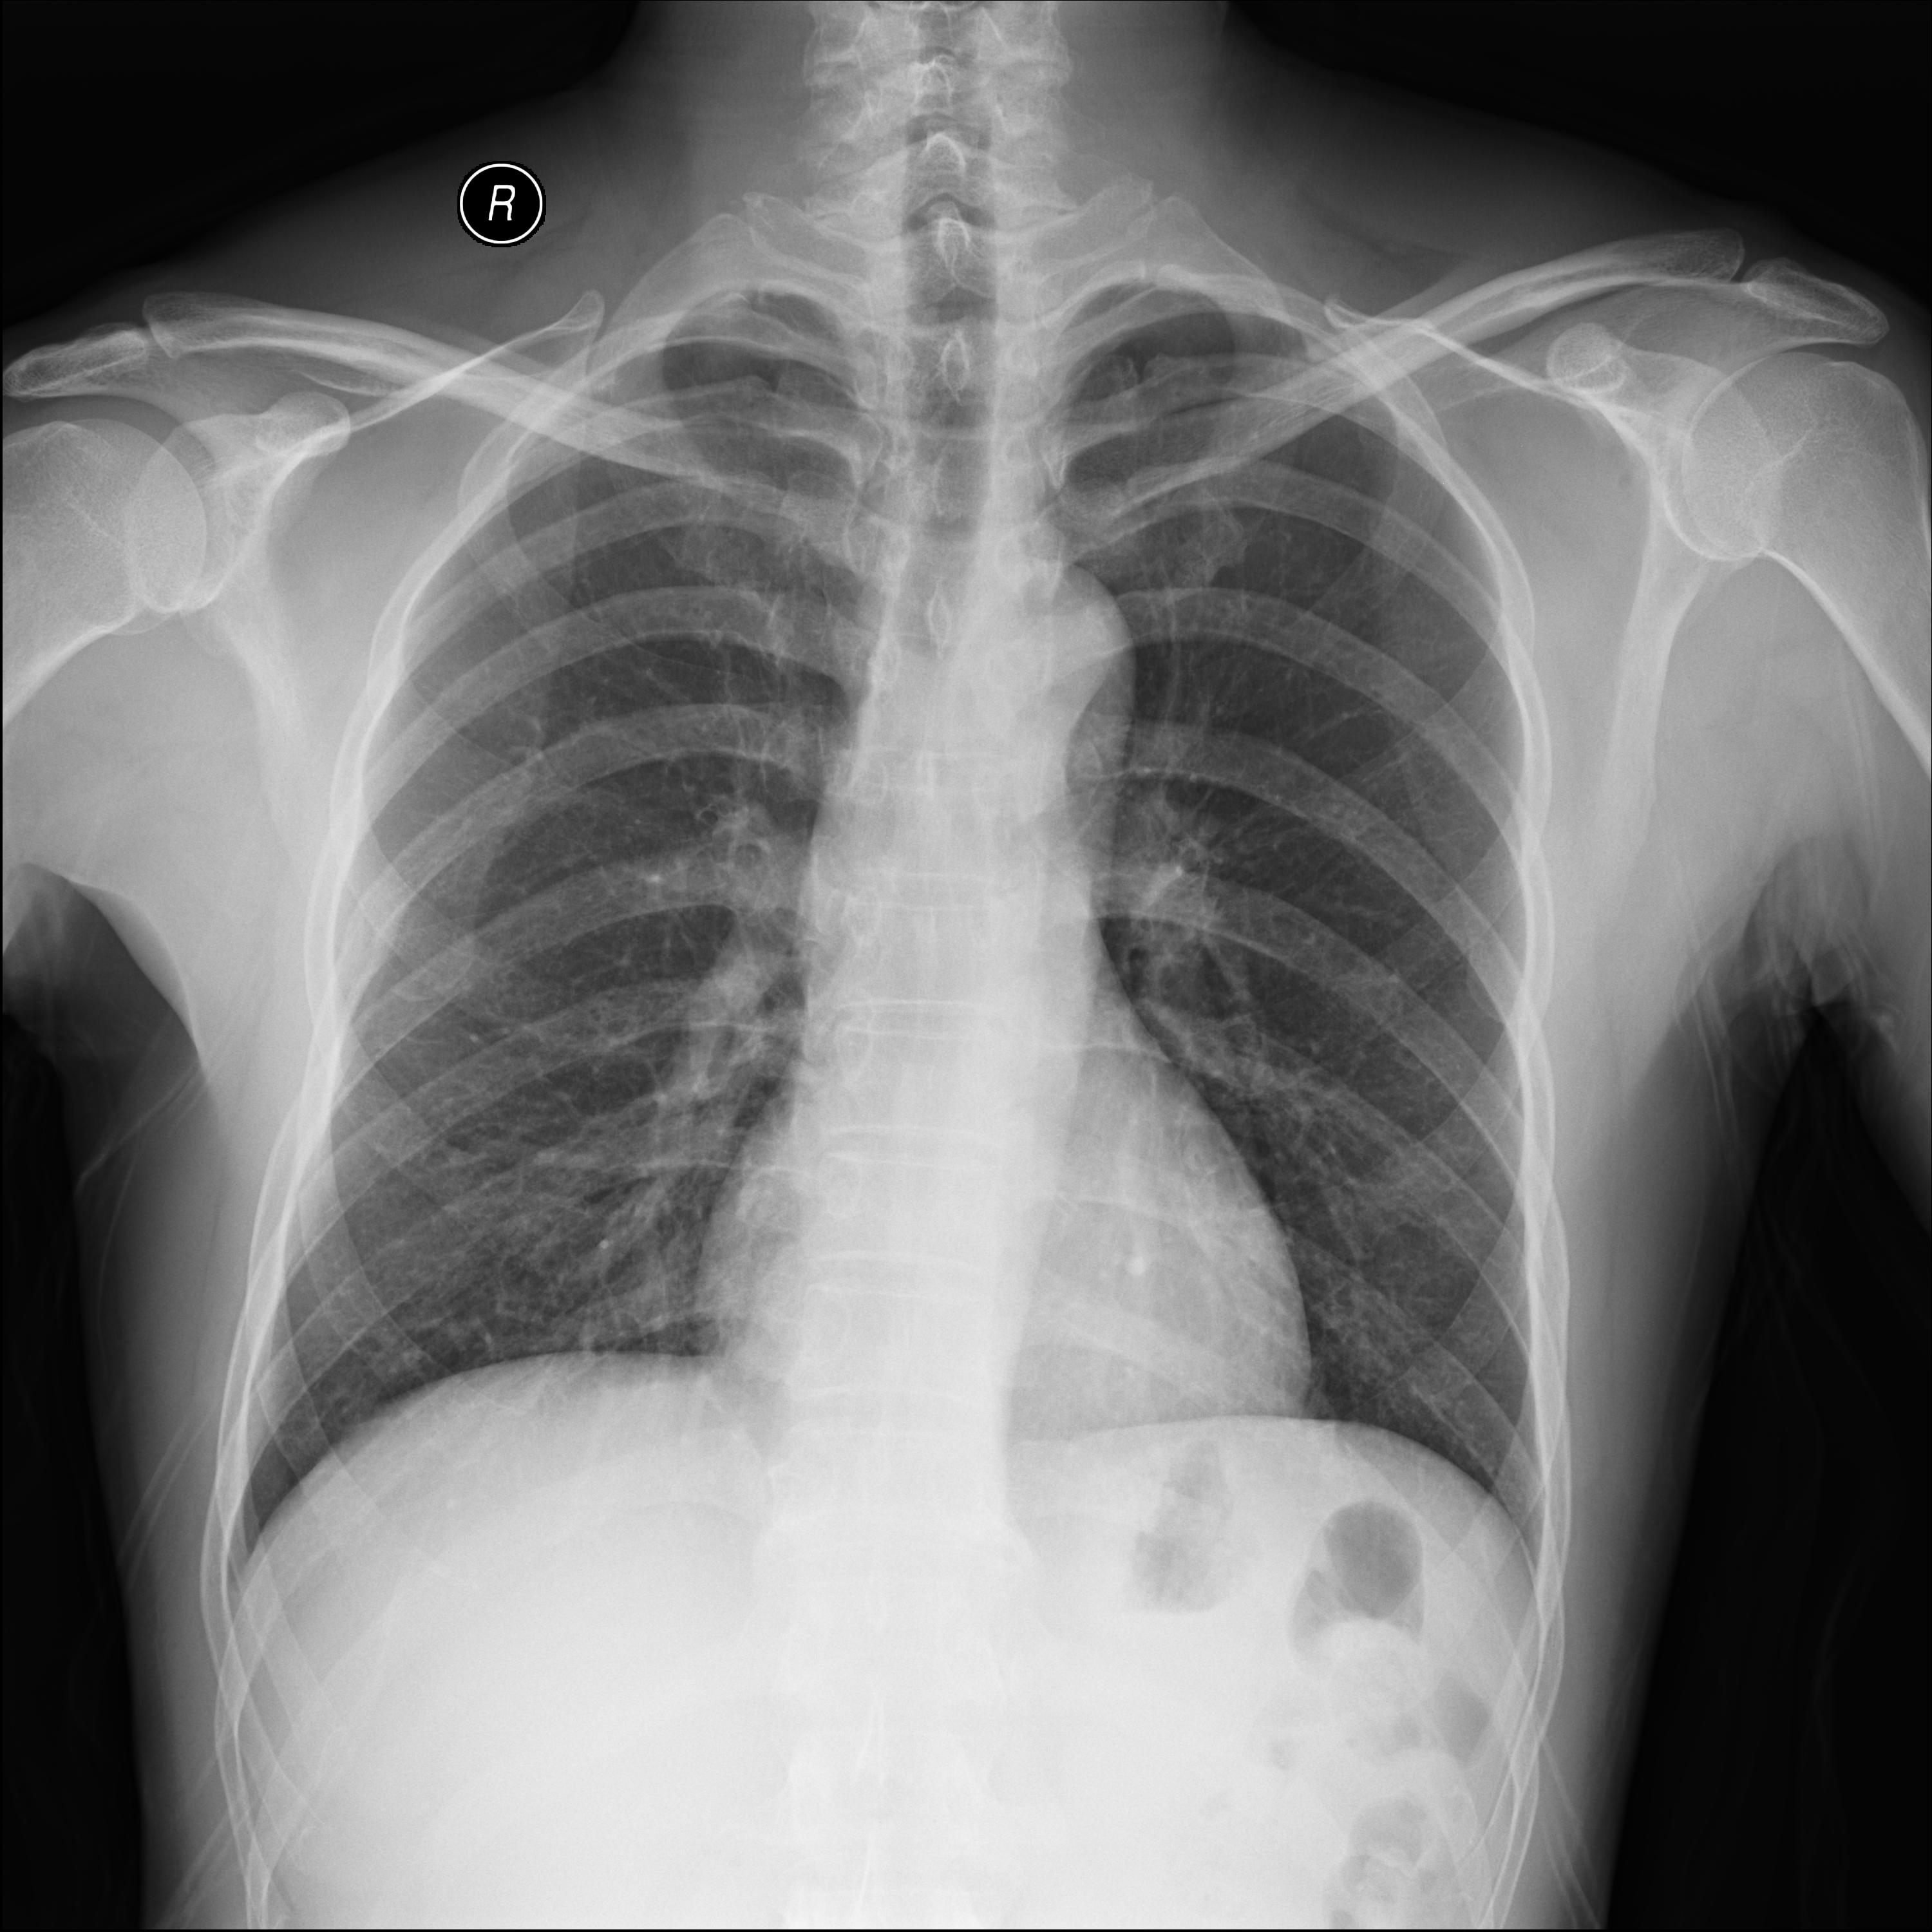fractura: (318, 876, 423, 987)
